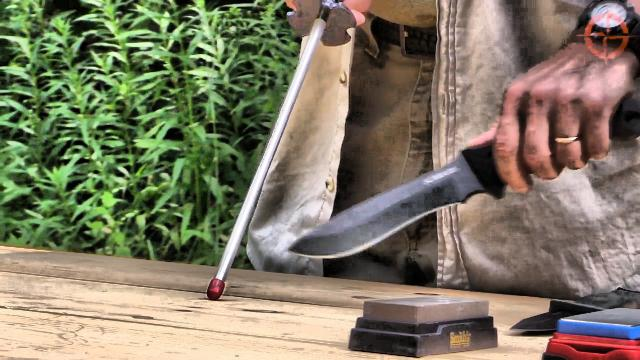knife: (278, 86, 640, 270)
